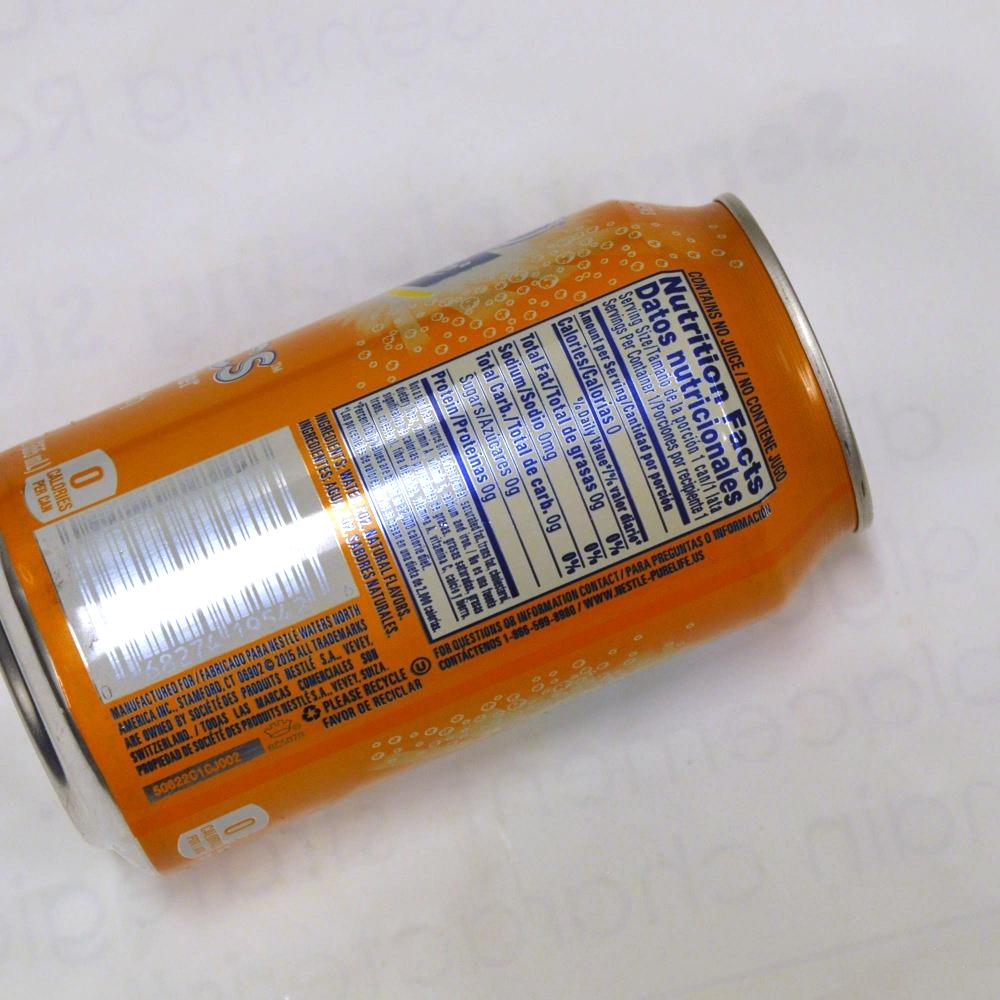Metal: (31, 157, 838, 892)
